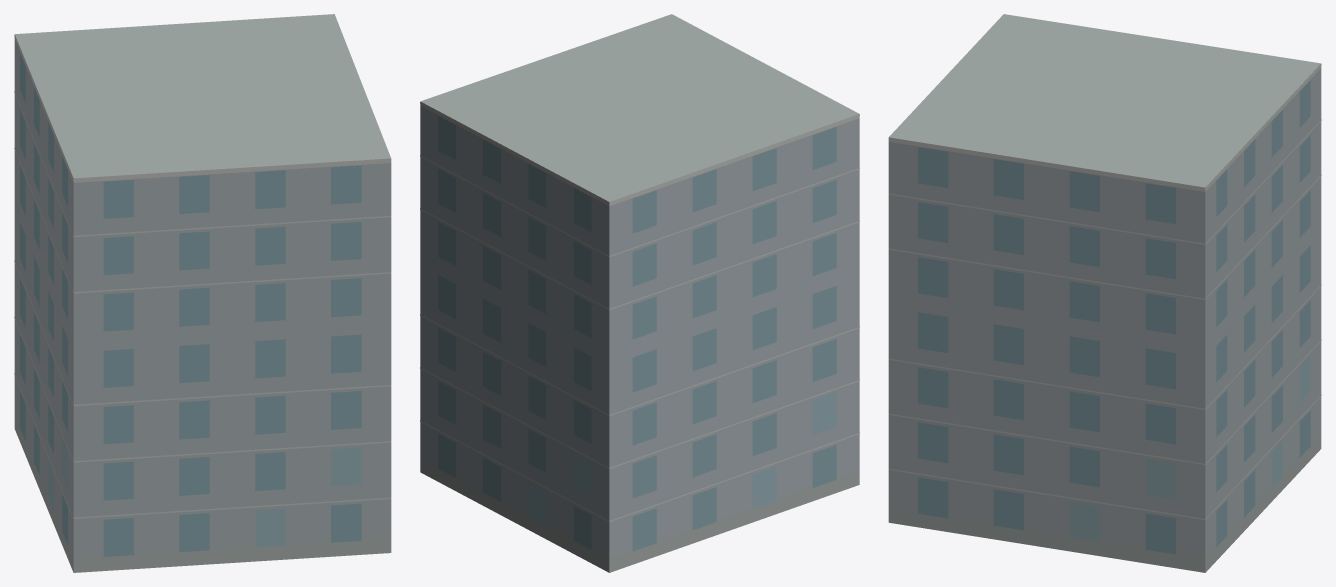
File: survey-upis-32891396.glb
3 views of the same model, side by side, from view 1: azimuth 30°, elevation 25°; view 2: azimuth 150°, elevation 25°; view 3: azimuth 270°, elevation 25° (orthographic). The views are drawn at different scales.
Parts seen in each view (by area): view 1: survey-upis-32891396.tmp; view 2: survey-upis-32891396.tmp; view 3: survey-upis-32891396.tmp.
Boxes of the visible parts, bbox=[...] form: survey-upis-32891396.tmp: bbox=[14, 14, 391, 572]; survey-upis-32891396.tmp: bbox=[420, 14, 859, 572]; survey-upis-32891396.tmp: bbox=[888, 14, 1321, 572].
Bounding box in the file's own units: 20.65 × 21.35 × 21.76.
